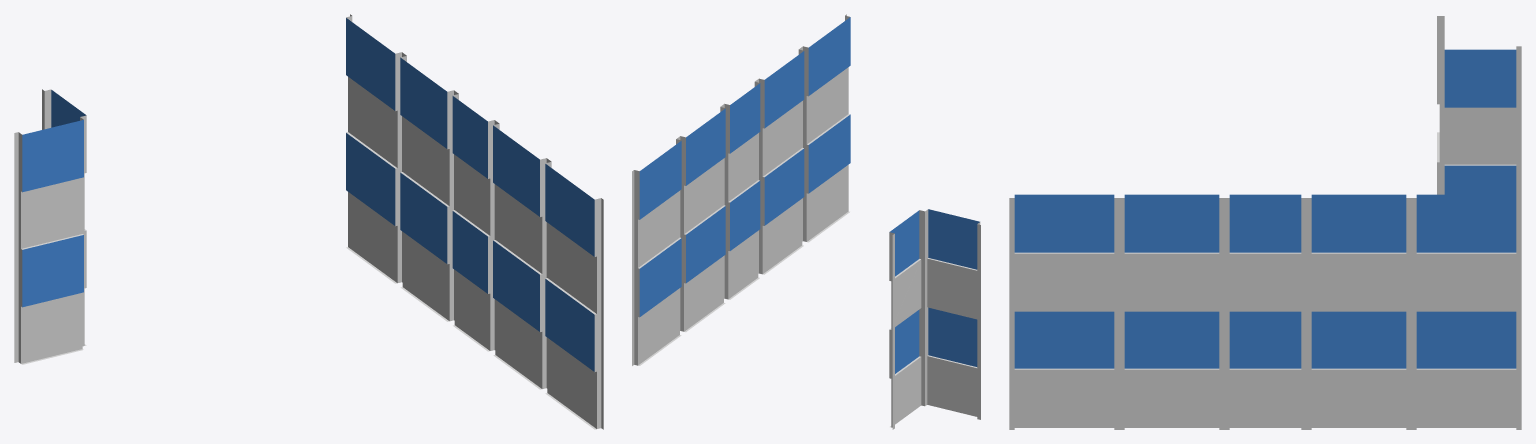
The model's file is 06b_mid.fbx.
The picture shows the model from 3 angles, left to right: view 1: azimuth 30°, elevation 25°; view 2: azimuth 150°, elevation 25°; view 3: azimuth 270°, elevation 25°; orthographic projection. The views are drawn at different scales.
Visible parts, largest first — view 1: 06b_Mid; view 2: 06b_Mid; view 3: 06b_Mid.
Part boxes in pixels (x1=…): 06b_Mid: x1=14, y1=14, x2=603, y2=429; 06b_Mid: x1=632, y1=14, x2=980, y2=429; 06b_Mid: x1=1009, y1=16, x2=1521, y2=429.
Size of the model in its own units: 42.5 by 25 by 50.
